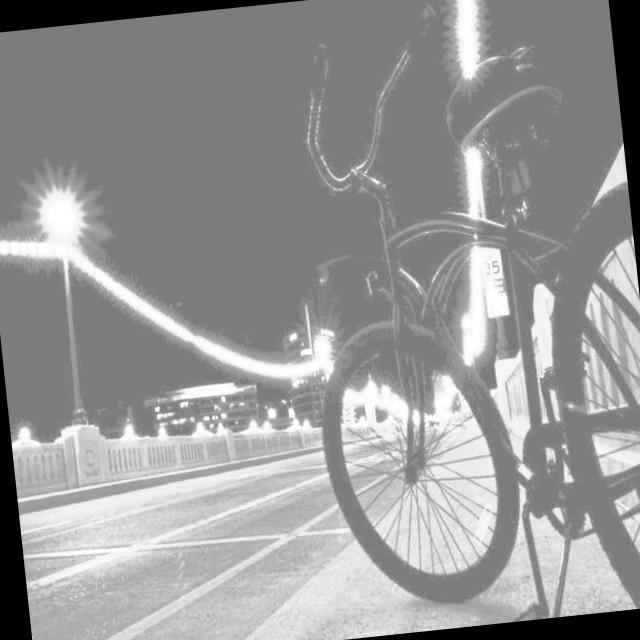Bicycle: (265, 50, 640, 640)
